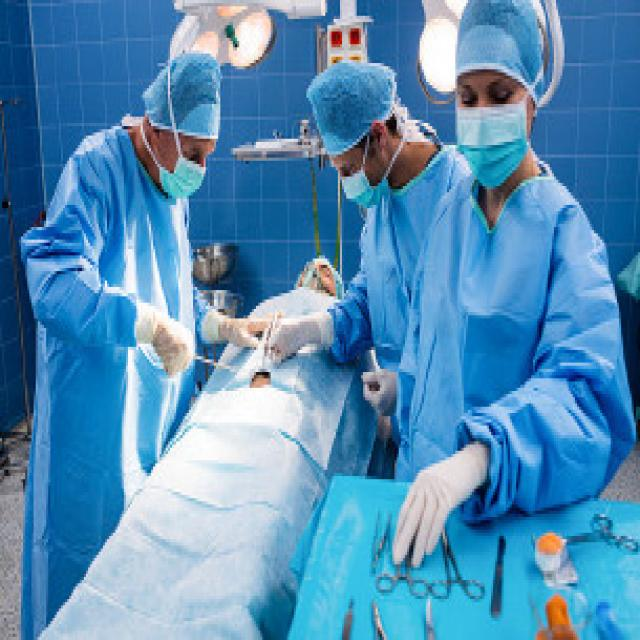mask: (452, 63, 526, 183), (330, 123, 383, 211), (157, 114, 212, 195)
